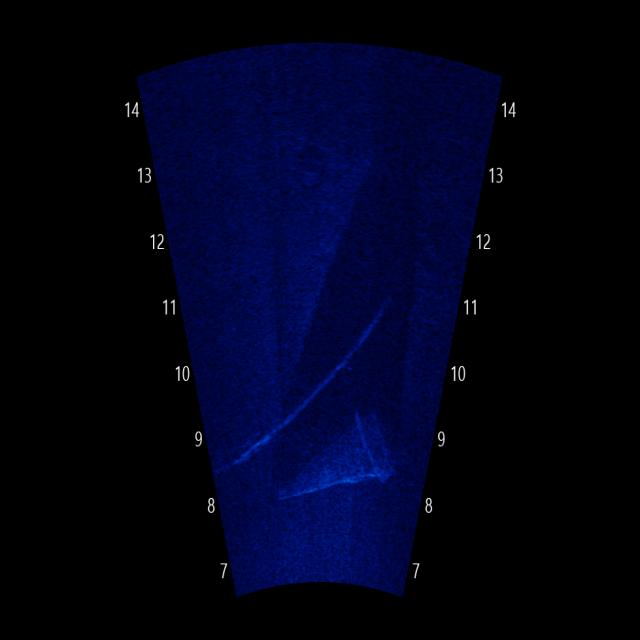triangle: (266, 398, 394, 523)
